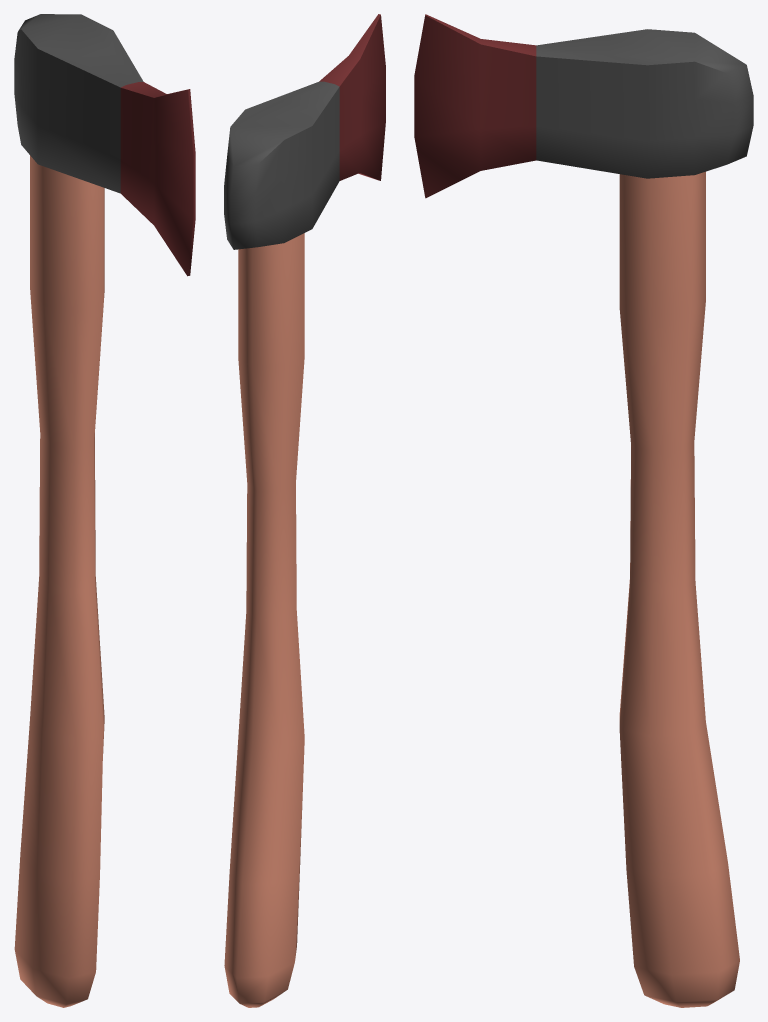
Rendered from axe.fbx.
3 views of the same model, side by side, from view 1: azimuth 30°, elevation 25°; view 2: azimuth 150°, elevation 25°; view 3: azimuth 270°, elevation 25° (orthographic). The views are drawn at different scales.
Parts seen in each view (by area): view 1: axe; view 2: axe; view 3: axe.
Part boxes in pixels (box(x1,y1,x2,y2)): axe: box(14, 14, 195, 1007); axe: box(224, 14, 385, 1007); axe: box(414, 14, 753, 1007).
Bounding box in the file's own units: 16.64 × 212 × 65.98.
